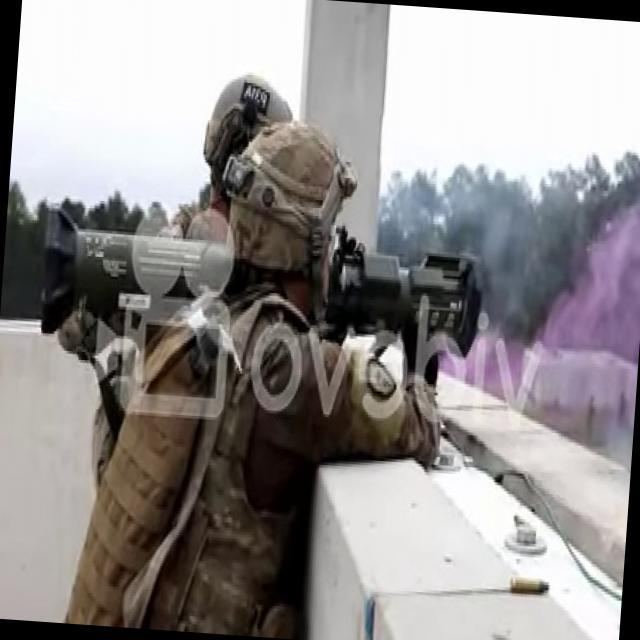rocket: (38, 206, 486, 362)
